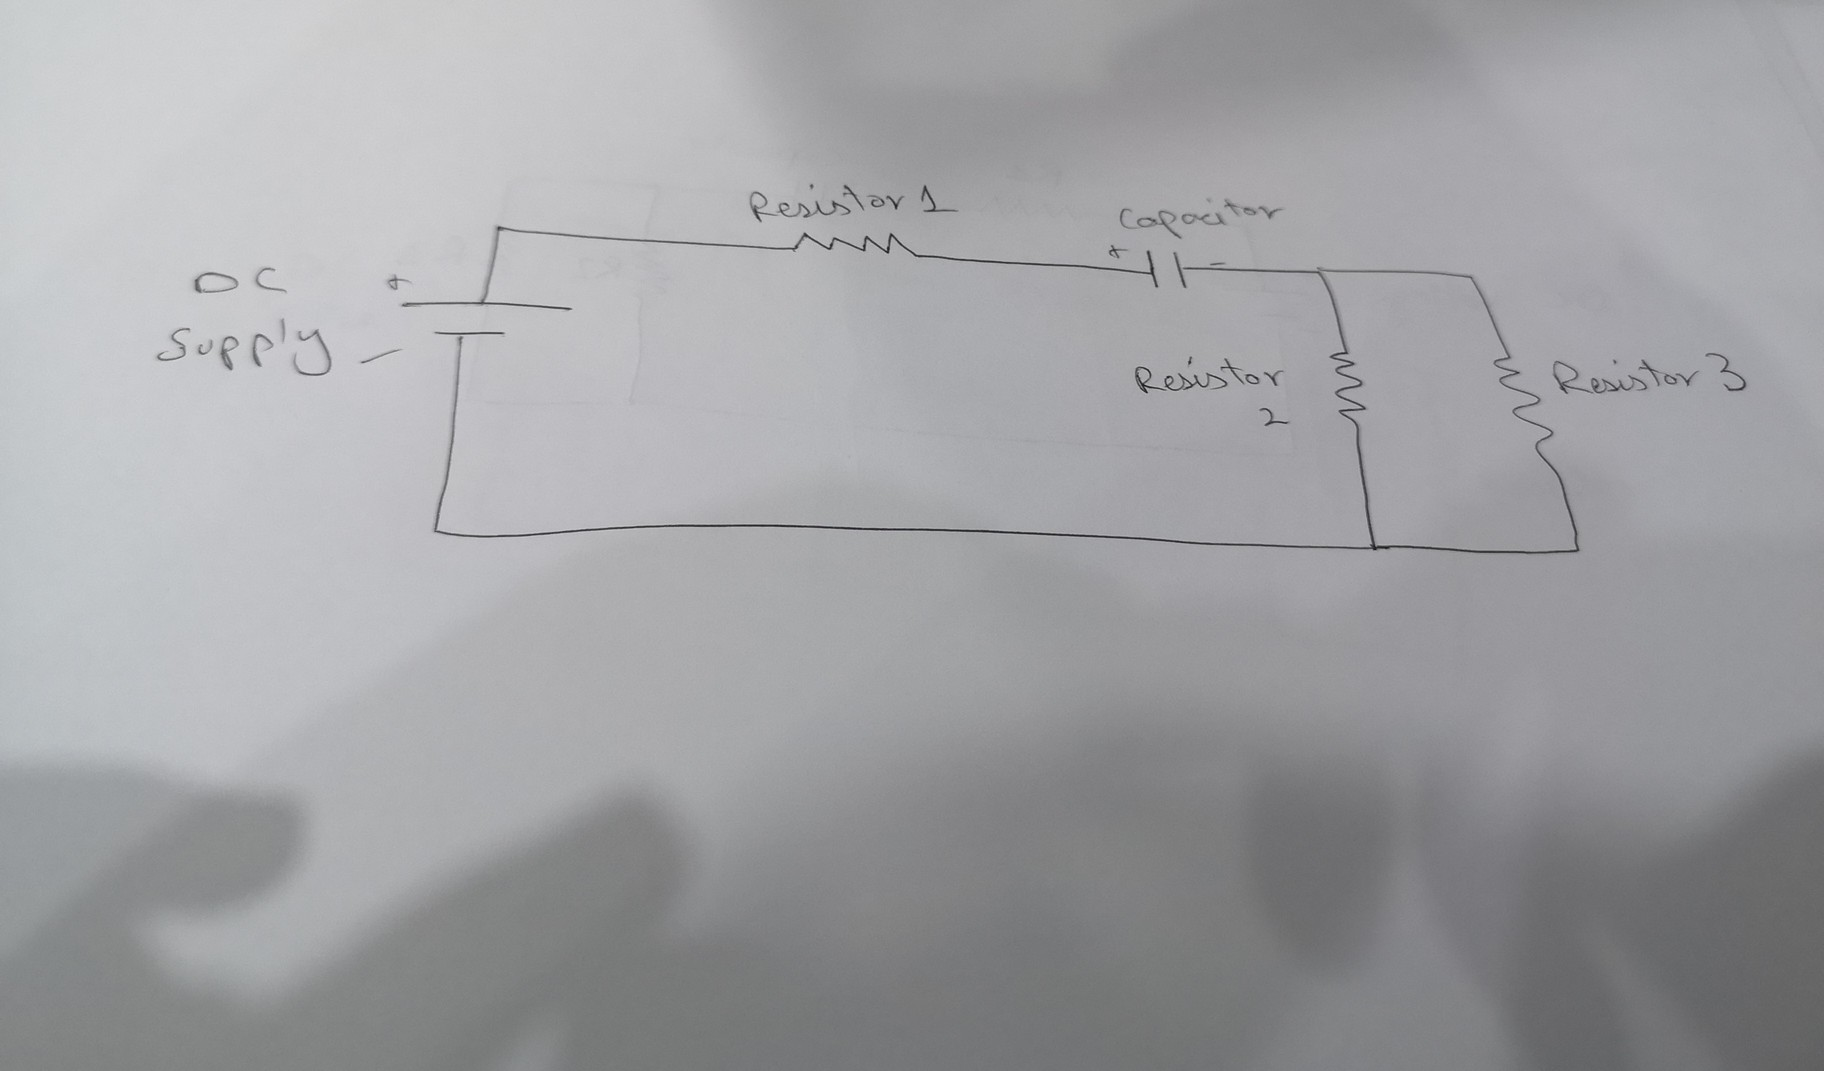capacitor.polarized: (1104, 240, 1231, 295)
junction: (1561, 532, 1591, 564), (1457, 266, 1484, 293), (1359, 534, 1387, 558), (1306, 261, 1332, 286), (487, 218, 509, 241), (426, 518, 446, 541)
resistor: (1482, 346, 1559, 463), (783, 224, 924, 266), (1327, 342, 1368, 430)
text: (145, 310, 342, 381), (1545, 351, 1750, 397), (744, 181, 939, 224), (1133, 356, 1287, 391), (1113, 201, 1281, 232), (186, 258, 294, 300), (1257, 404, 1289, 433)
voltage.dc: (396, 296, 581, 344)
